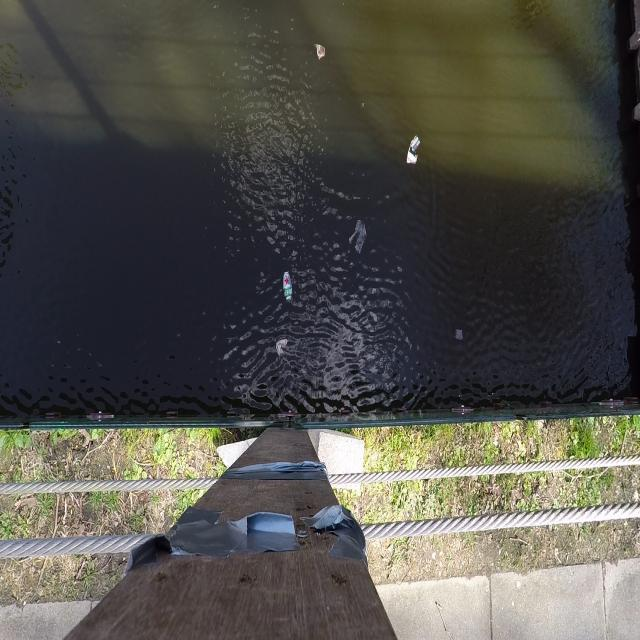Non plastique: (279, 259, 295, 309)
